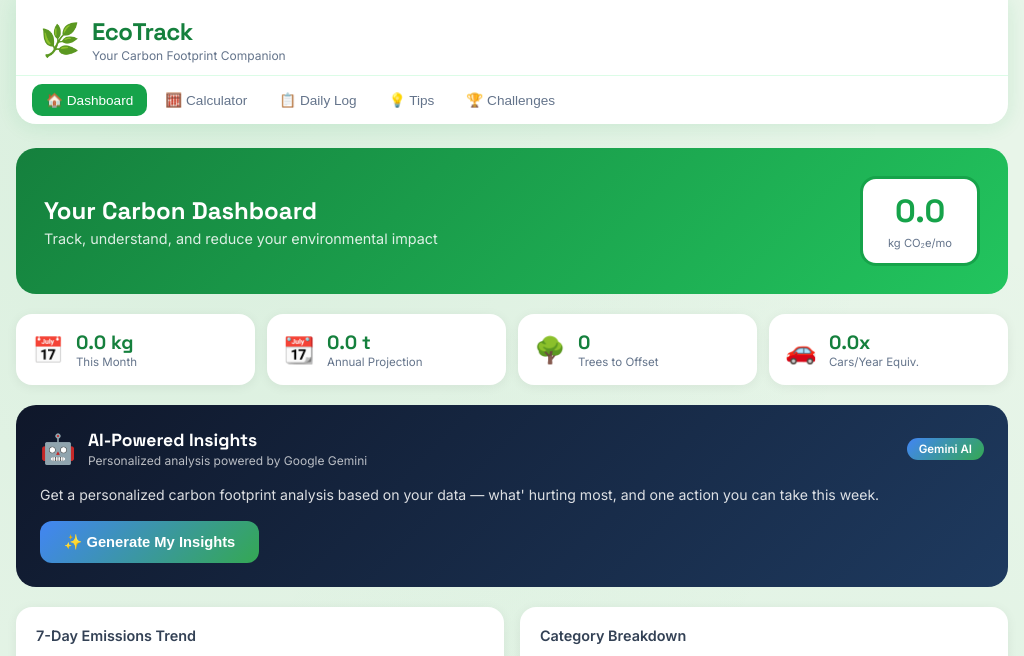
Test case: App rendering › navigates to calculator tab
Click the button "🧮 Calculator" at (206, 100), box left=151, top=84, right=261, bottom=116
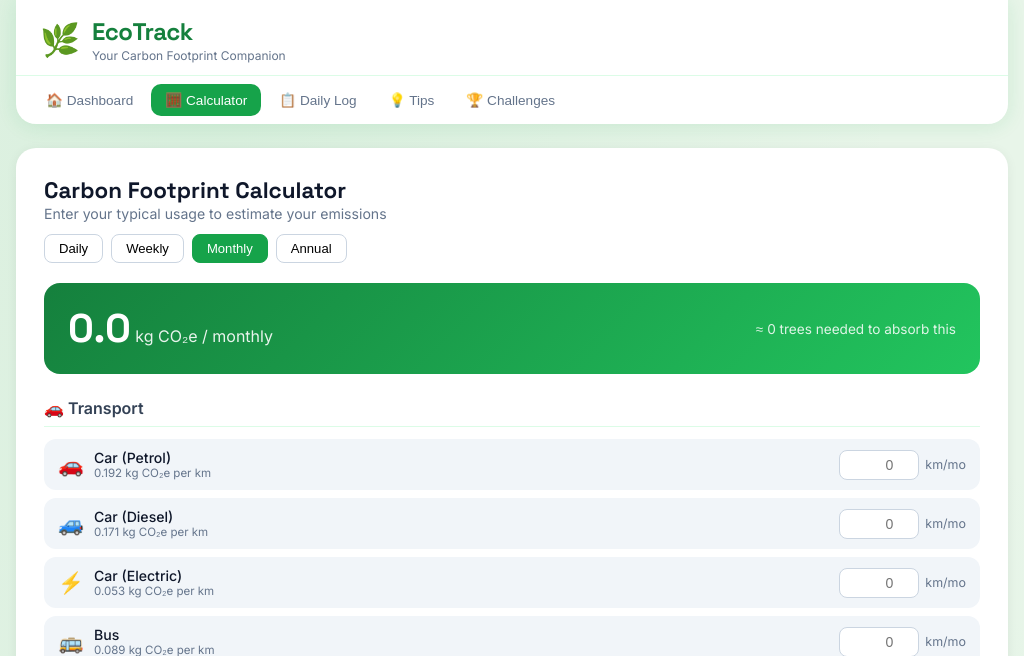
Check: the heading "Carbon Footprint Calculator" is shown, box left=44, top=176, right=346, bottom=205
